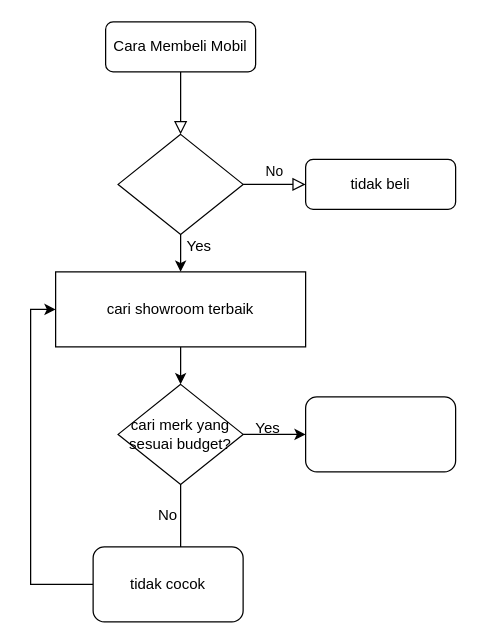
The diagram is 478 pixels wide and 644 high, and some of its shapes have lost their labels. The shapes that lost their labels are listed below. From the top down, each one's box as (x1, y1, x2, y2) in pixels, then its label:
(117, 133, 243, 234): Punya uang?
(304, 396, 456, 472): beli mobil
